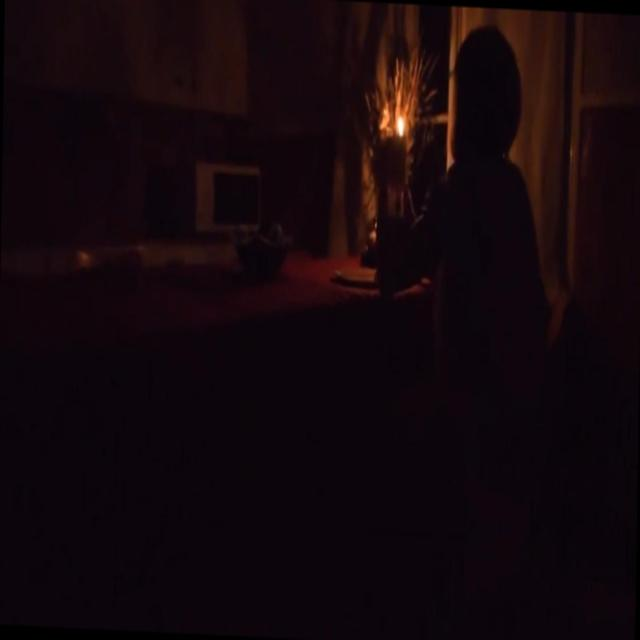fire: (378, 74, 420, 172)
